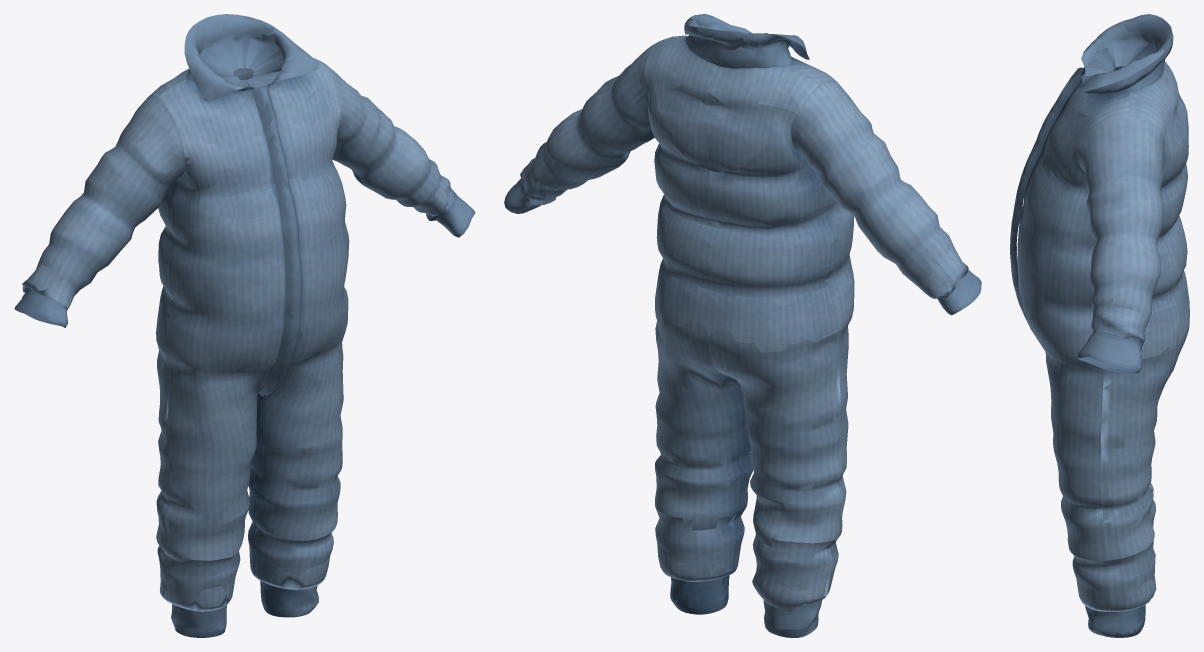
The model's file is dress2.glb.
3 renders of one model, left to right at view 1: azimuth 30°, elevation 25°; view 2: azimuth 150°, elevation 25°; view 3: azimuth 270°, elevation 25°, orthographic. The views are drawn at different scales.
Parts seen in each view (by area): view 1: s4studio_mesh_1; view 2: s4studio_mesh_1; view 3: s4studio_mesh_1.
Part boxes in pixels (left/top/right/bottom): s4studio_mesh_1: left=14, top=14, right=475, bottom=637; s4studio_mesh_1: left=504, top=14, right=981, bottom=637; s4studio_mesh_1: left=1010, top=14, right=1189, bottom=637.
Size of the model in its own units: 0.5708 by 0.7102 by 0.2003.
1 material, 1 textured.
